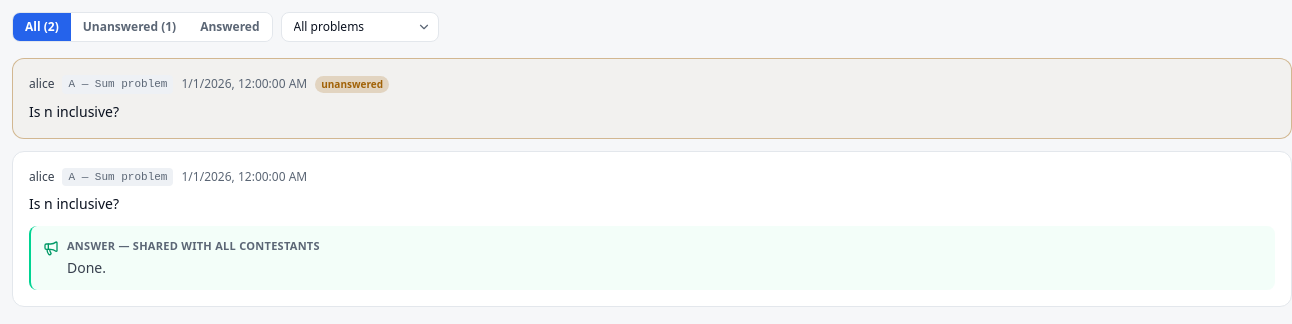
Test: ClarificationsPanel › filters to unanswered when asked
Click the button "Unanswered (1)". click: point(129, 27)
box: [71, 13, 188, 41]
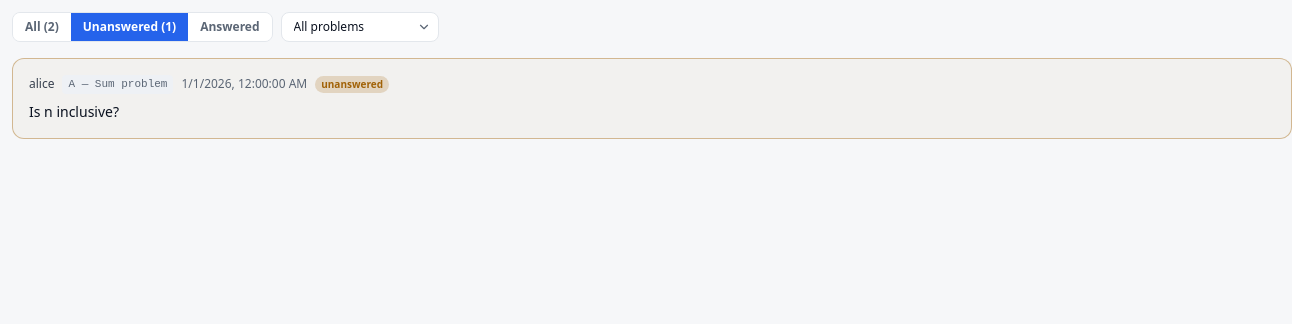
Expected: the text "Is n inclusive?" is shown, [29, 102, 119, 121]
Expected: the text "Done." is gone
